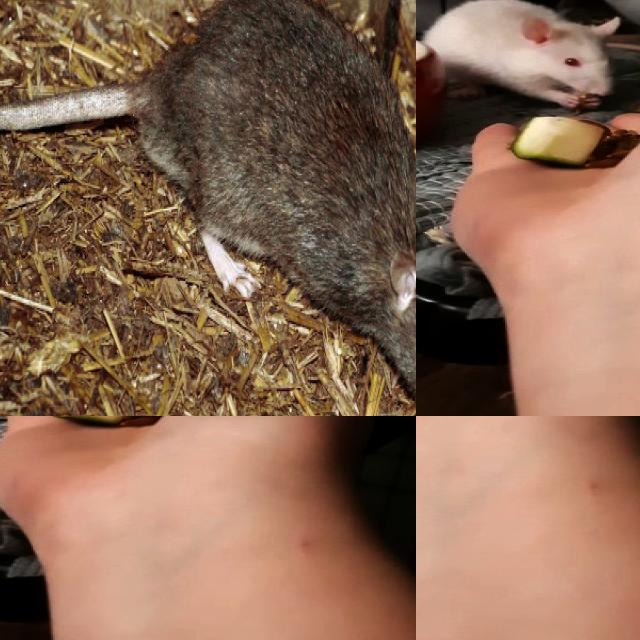rat: (155, 0, 416, 416), (421, 0, 623, 110)
